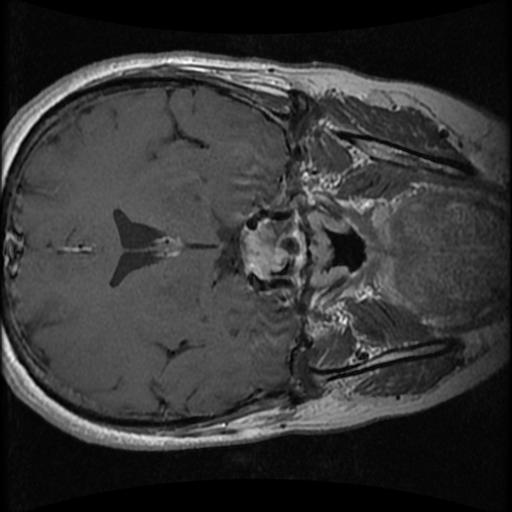pituitary tumour: (239, 218, 298, 281)
